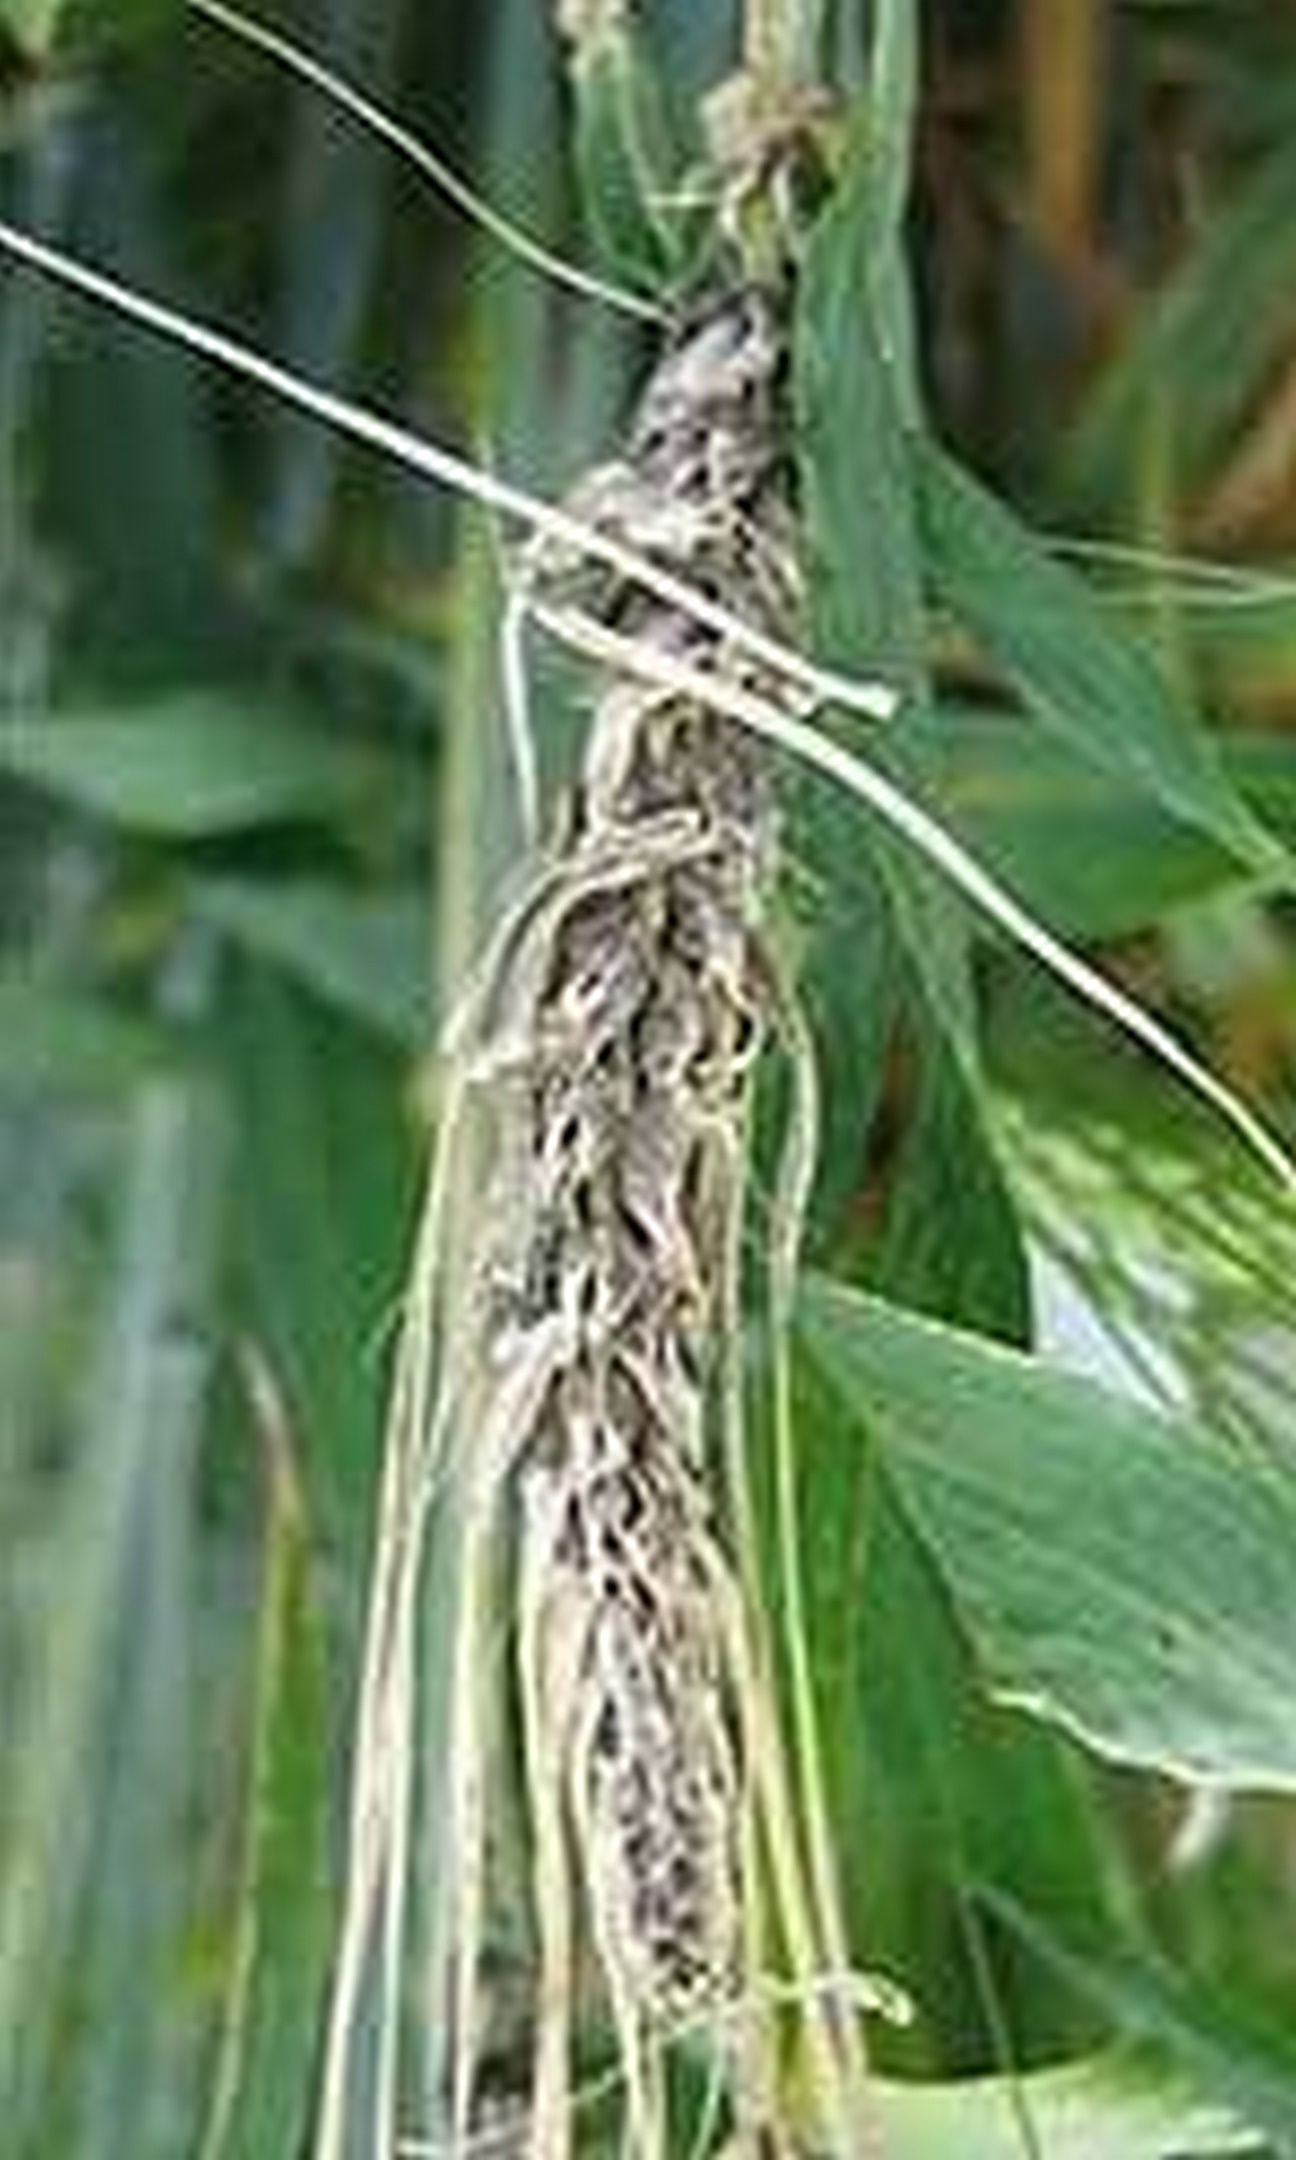Wheat Loose Smut: (434, 355, 847, 1996)
